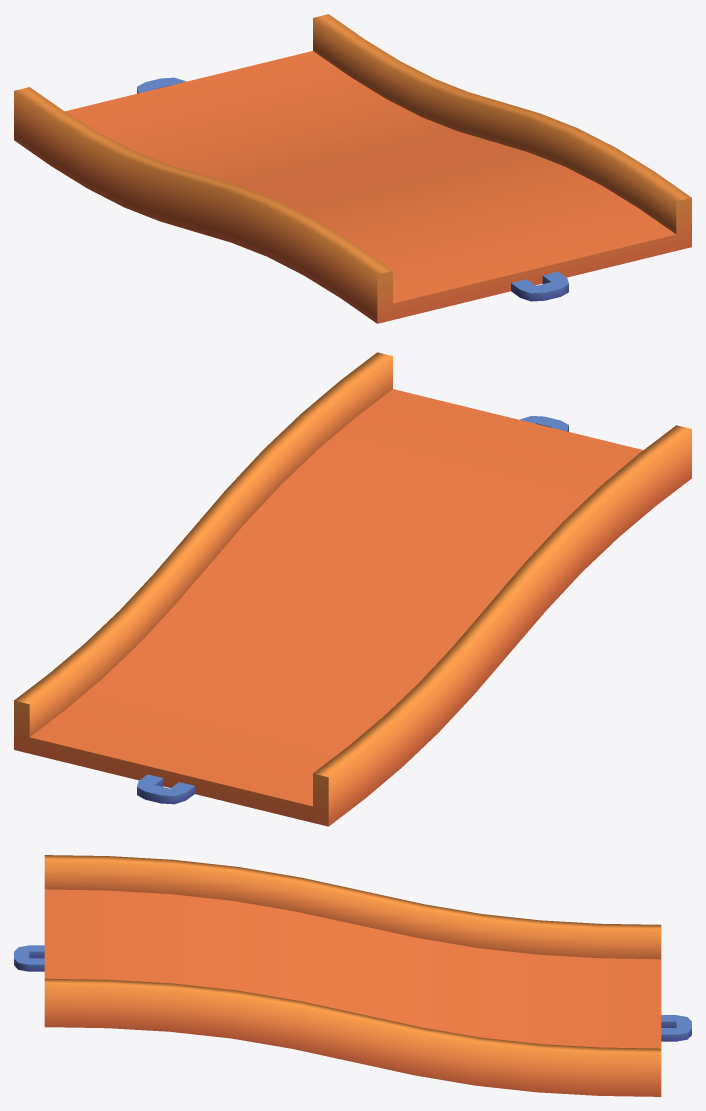
The model's file is kenney-toy-car-track-wide-straight-hill-complete-half.glb.
The picture shows the model from 3 angles, top to bottom: view 1: azimuth 30°, elevation 25°; view 2: azimuth 150°, elevation 25°; view 3: azimuth 270°, elevation 25°; orthographic projection. The views are drawn at different scales.
Visible parts, largest first — view 1: track-wide-straight-hill-complete-half; view 2: track-wide-straight-hill-complete-half; view 3: track-wide-straight-hill-complete-half.
Boxes of the visible parts, box(x1,y1,x2,y2) form: track-wide-straight-hill-complete-half: box(14, 14, 691, 323); track-wide-straight-hill-complete-half: box(14, 352, 691, 826); track-wide-straight-hill-complete-half: box(14, 855, 691, 1096).
Bounding box in the file's own units: 2 × 0.7998 × 4.4.
Materials: 1 (1 with a texture image).
